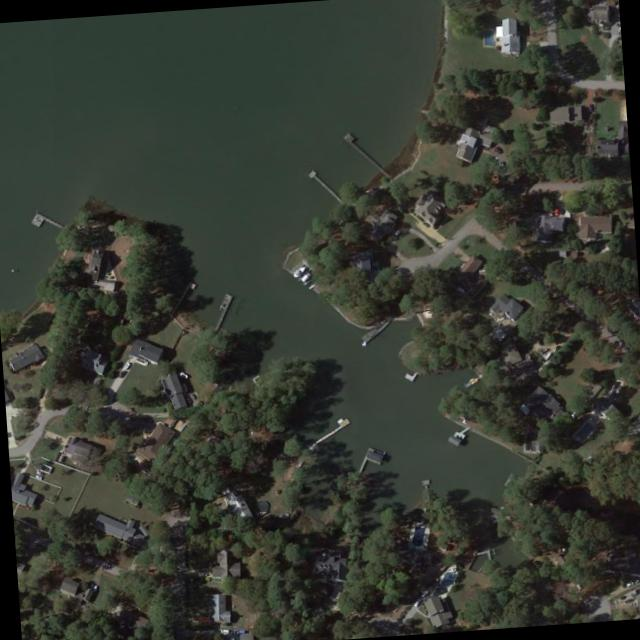ship: (290, 261, 309, 279), (298, 269, 314, 283)
small-vehicle: (177, 367, 190, 378), (32, 472, 43, 479), (624, 579, 634, 586), (34, 469, 45, 475)
